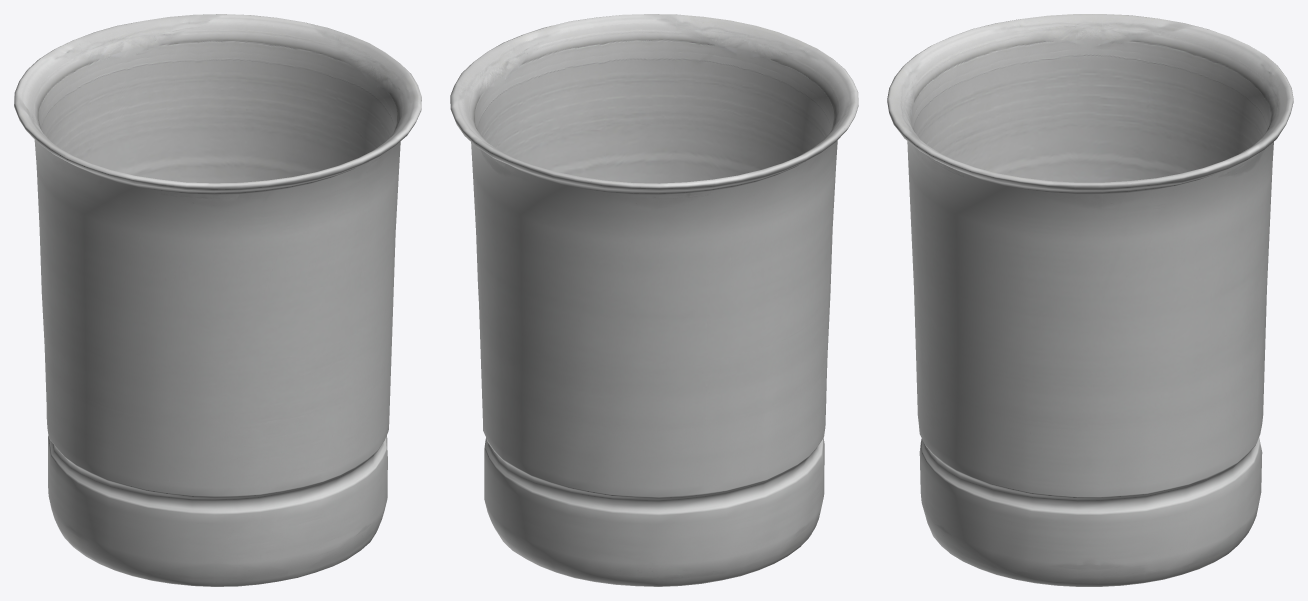
File: Meshy_AI_Stainless_steel_cup_0619013430_texture.fbx
3 renders of one model, left to right at view 1: azimuth 30°, elevation 25°; view 2: azimuth 150°, elevation 25°; view 3: azimuth 270°, elevation 25°, orthographic.
Visible parts, largest first — view 1: Mesh_0; view 2: Mesh_0; view 3: Mesh_0.
Boxes of the visible parts, bbox=[...] form: Mesh_0: bbox=[14, 14, 421, 586]; Mesh_0: bbox=[450, 14, 858, 586]; Mesh_0: bbox=[887, 14, 1293, 586].
Bounding box in the file's own units: 166 × 191 × 166.
Materials: 1 (1 with a texture image).
